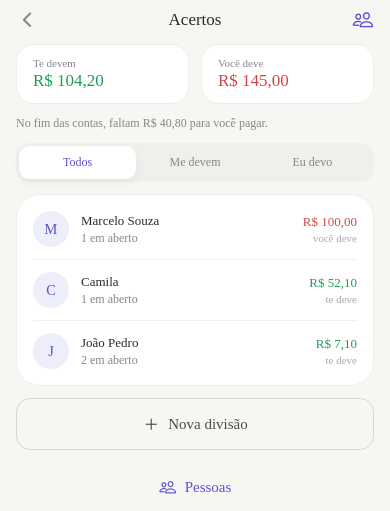
Acertos › o filtro "Eu devo" deixa só quem eu devo
This screenshot has width=390, height=511.
Click the text "Eu devo".
click(312, 162)  # box 292,155 -> 332,170
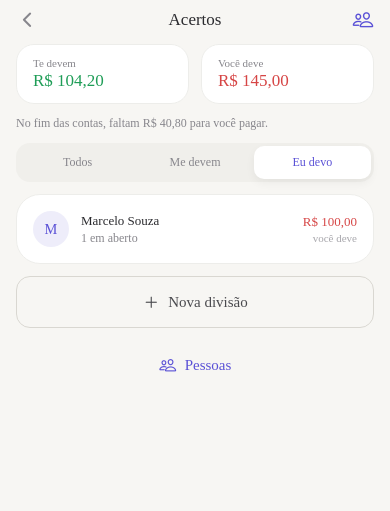
Expected: the text "Marcelo Souza" is shown, 81,212 -> 159,228
Now the text "Camila" is gone
